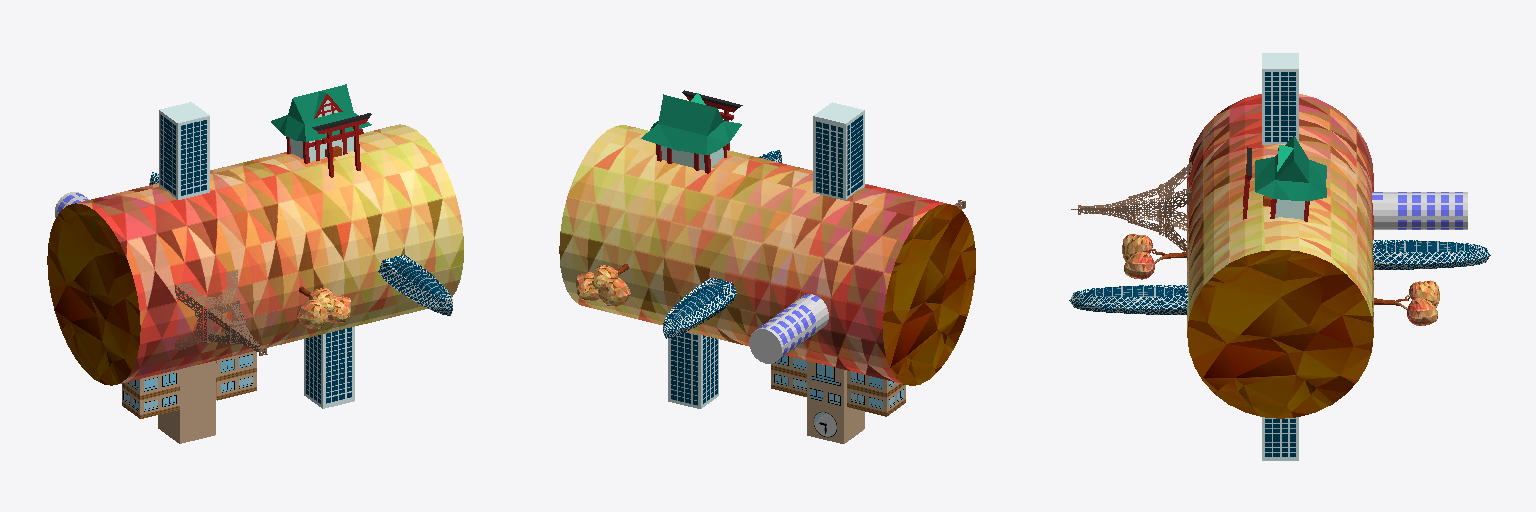
The picture shows the model from 3 angles: view 1: azimuth 30°, elevation 25°; view 2: azimuth 150°, elevation 25°; view 3: azimuth 270°, elevation 25°; orthographic projection.
Visible parts, largest first — view 1: model_map_autumn:pCylinder1, group5 model_mapobj_biru:pCube2, group5 model_mapobj_biru1:pCube2, model_mapobj_school:group7 model_mapobj_school:pasted__pPlane3 m, model_mapobj_tera:group12 model_mapobj_tera:pCube1 model_mapobj_, model_mapobj_hal:group1 model_mapobj_hal:group2 model_mapobj_hal, model_mapobj_tou:group1 model_mapobj_tou:pCube1 model_mapobj_tou, model_mapobj_school:group7 model_mapobj_school:pasted__pPlane5 m, model_mapobj_school:group7 model_mapobj_school:pasted__pPlane8 m, model_mapobj_tera:group12 model_mapobj_tera:group13 model_mapobj, model_wood_autumn:group4 model_wood_autumn:pasted__pSphere1 mode, model_mapobj_tou:group1 model_mapobj_tou:pCube2 model_mapobj_tou (+3 smaller); view 2: model_map_autumn:pCylinder1, group5 model_mapobj_biru:pCube2, model_mapobj_tera:group12 model_mapobj_tera:pCube1 model_mapobj_, group5 model_mapobj_biru1:pCube2, pasted__pCylinder1 group8, model_mapobj_school:group7 model_mapobj_school:pPlane1 model_map, model_mapobj_hal1:group2 group5 model_mapobj_hal1:polySurface1, model_mapobj_school:group7 model_mapobj_school:pPlane4 model_map, model_mapobj_school:group7 model_mapobj_school:pPlane6 model_map, model_mapobj_hal1:group2 model_mapobj_hal1:pSphere1 group5 model, model_wood_autumn1:group4 model_wood_autumn1:pasted__pSphere1 mo, model_mapobj_school:group7 model_mapobj_school:pasted__pPlane2 m (+2 smaller); view 3: model_map_autumn:pCylinder1, pasted__pCylinder1 group8, group5 model_mapobj_biru:pCube2, model_mapobj_hal:group1 model_mapobj_hal:group2 model_mapobj_hal, model_mapobj_tera:group12 model_mapobj_tera:pCube1 model_mapobj_, model_mapobj_hal1:group2 group5 model_mapobj_hal1:polySurface1, group5 model_mapobj_biru1:pCube2, model_mapobj_tou:group1 model_mapobj_tou:pCube1 model_mapobj_tou, model_mapobj_hal1:group2 model_mapobj_hal1:pSphere1 group5 model, model_mapobj_tou:group1 model_mapobj_tou:pCube2 model_mapobj_tou, model_wood_autumn1:group4 model_wood_autumn1:pSphere1 model_wood, model_wood_autumn:group4 model_wood_autumn:pSphere1 model_wood_a.
Part boxes in pixels (bbox=[...]): model_map_autumn:pCylinder1: bbox=[47, 124, 463, 385]; group5 model_mapobj_biru:pCube2: bbox=[159, 102, 209, 199]; group5 model_mapobj_biru1:pCube2: bbox=[304, 327, 354, 408]; model_mapobj_school:group7 model_mapobj_school:pasted__pPlane3 m: bbox=[180, 361, 215, 443]; model_mapobj_tera:group12 model_mapobj_tera:pCube1 model_mapobj_: bbox=[271, 84, 371, 141]; model_mapobj_hal:group1 model_mapobj_hal:group2 model_mapobj_hal: bbox=[378, 255, 452, 315]; model_mapobj_tou:group1 model_mapobj_tou:pCube1 model_mapobj_tou: bbox=[175, 270, 239, 350]; model_mapobj_school:group7 model_mapobj_school:pasted__pPlane5 m: bbox=[140, 369, 179, 418]; model_mapobj_school:group7 model_mapobj_school:pasted__pPlane8 m: bbox=[217, 351, 256, 400]; model_mapobj_tera:group12 model_mapobj_tera:group13 model_mapobj: bbox=[312, 113, 371, 177]; model_wood_autumn:group4 model_wood_autumn:pasted__pSphere1 mode: bbox=[297, 300, 328, 328]; model_mapobj_tou:group1 model_mapobj_tou:pCube2 model_mapobj_tou: bbox=[208, 304, 246, 343]; model_map_autumn:pCylinder1: bbox=[559, 125, 975, 385]; group5 model_mapobj_biru:pCube2: bbox=[813, 102, 864, 200]; model_mapobj_tera:group12 model_mapobj_tera:pCube1 model_mapobj_: bbox=[641, 94, 741, 154]; group5 model_mapobj_biru1:pCube2: bbox=[668, 332, 718, 408]; pasted__pCylinder1 group8: bbox=[749, 294, 828, 363]; model_mapobj_school:group7 model_mapobj_school:pPlane1 model_map: bbox=[807, 361, 843, 443]; model_mapobj_hal1:group2 group5 model_mapobj_hal1:polySurface1: bbox=[663, 278, 736, 338]; model_mapobj_school:group7 model_mapobj_school:pPlane4 model_map: bbox=[847, 371, 886, 416]; model_mapobj_school:group7 model_mapobj_school:pPlane6 model_map: bbox=[771, 355, 806, 396]; model_mapobj_hal1:group2 model_mapobj_hal1:pSphere1 group5 model: bbox=[669, 279, 724, 319]; model_wood_autumn1:group4 model_wood_autumn1:pasted__pSphere1 mo: bbox=[598, 277, 630, 306]; model_mapobj_school:group7 model_mapobj_school:pasted__pPlane2 m: bbox=[844, 370, 864, 443]; model_map_autumn:pCylinder1: bbox=[1187, 94, 1373, 418]; pasted__pCylinder1 group8: bbox=[1372, 192, 1467, 229]; group5 model_mapobj_biru:pCube2: bbox=[1262, 53, 1298, 144]; model_mapobj_hal:group1 model_mapobj_hal:group2 model_mapobj_hal: bbox=[1069, 285, 1187, 314]; model_mapobj_tera:group12 model_mapobj_tera:pCube1 model_mapobj_: bbox=[1255, 136, 1326, 201]; model_mapobj_hal1:group2 group5 model_mapobj_hal1:polySurface1: bbox=[1373, 240, 1490, 269]; group5 model_mapobj_biru1:pCube2: bbox=[1262, 417, 1298, 460]; model_mapobj_tou:group1 model_mapobj_tou:pCube1 model_mapobj_tou: bbox=[1159, 162, 1191, 251]; model_mapobj_hal1:group2 model_mapobj_hal1:pSphere1 group5 model: bbox=[1376, 241, 1473, 252]; model_mapobj_tou:group1 model_mapobj_tou:pCube2 model_mapobj_tou: bbox=[1128, 187, 1158, 231]; model_wood_autumn1:group4 model_wood_autumn1:pSphere1 model_wood: bbox=[1407, 298, 1437, 325]; model_wood_autumn:group4 model_wood_autumn:pSphere1 model_wood_a: bbox=[1124, 252, 1154, 279].
Bounding box in the file's own units: 3.18 × 3.02 × 3.59.
Materials: 23 (10 with a texture image).